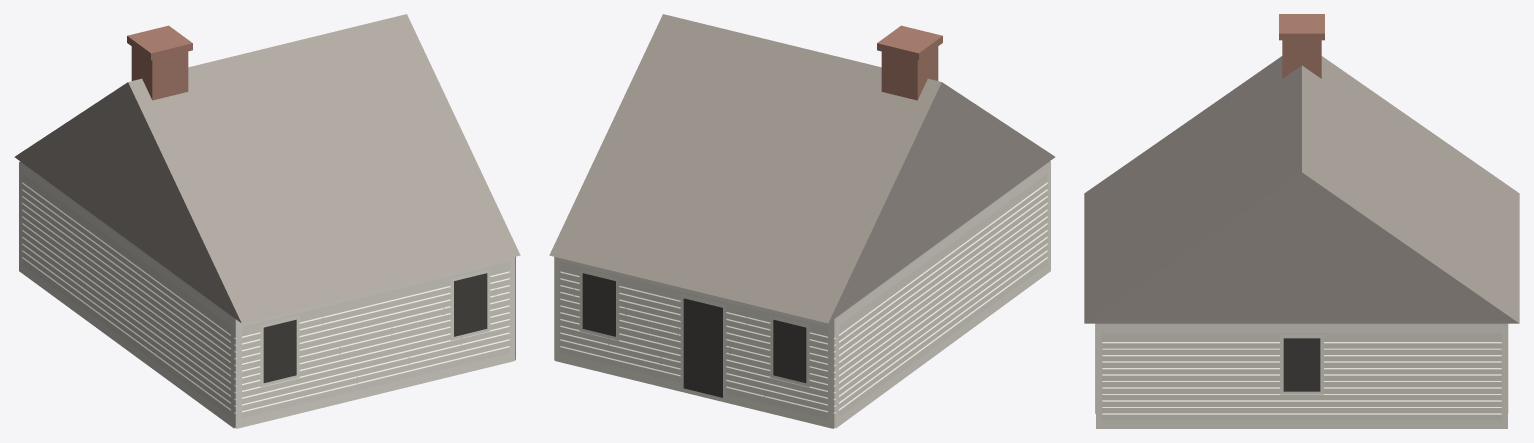
Rendered from recon_1835_blk_randolph_dearborn_d4_03__inferred_1835.glb.
3 views of the same model, side by side, from view 1: azimuth 30°, elevation 25°; view 2: azimuth 150°, elevation 25°; view 3: azimuth 270°, elevation 25° (orthographic). The views are drawn at different scales.
Visible parts, largest first — view 1: recon_1835_blk_randolph_dearborn_d4_03__inferred_1835; view 2: recon_1835_blk_randolph_dearborn_d4_03__inferred_1835; view 3: recon_1835_blk_randolph_dearborn_d4_03__inferred_1835.
Boxes of the visible parts, bbox=[...] form: recon_1835_blk_randolph_dearborn_d4_03__inferred_1835: bbox=[14, 14, 520, 428]; recon_1835_blk_randolph_dearborn_d4_03__inferred_1835: bbox=[549, 14, 1055, 428]; recon_1835_blk_randolph_dearborn_d4_03__inferred_1835: bbox=[1084, 14, 1519, 428].
Bounding box in the file's own units: 6.63 × 6.78 × 9.25.
